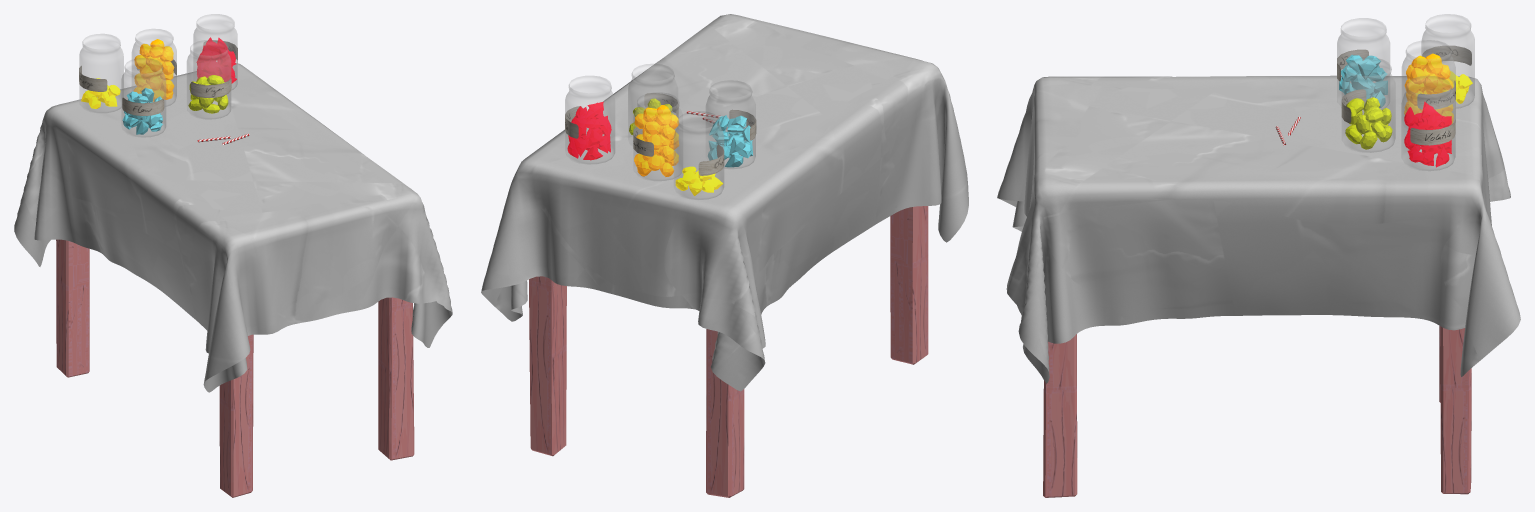
Rendered from table.fbx.
3 renders of one model, left to right at view 1: azimuth 30°, elevation 25°; view 2: azimuth 150°, elevation 25°; view 3: azimuth 270°, elevation 25°, orthographic. The views are drawn at different scales.
Parts seen in each view (by area): view 1: Plane.001, Plane, ChargeJar|Circle.008|Dupli|, FlowJar|Circle|Dupli|, VigorJar|Circle.004|Dupli|, GuardJar|Circle.002|Dupli|, VolatileJar|Circle.006|Dupli|, FlowJar|Circle.001|Dupli|20, VigorJar|Circle.005|Dupli|17; view 2: Plane.001, Plane, VolatileJar|Circle.006|Dupli|, ChargeJar|Circle.008|Dupli|, GuardJar|Circle.002|Dupli|, FlowJar|Circle|Dupli|, VigorJar|Circle.004|Dupli|; view 3: Plane.001, Plane, VigorJar|Circle.004|Dupli|, VolatileJar|Circle.006|Dupli|, ChargeJar|Circle.008|Dupli|, FlowJar|Circle|Dupli|, GuardJar|Circle.002|Dupli|, VolatileJar|Circle.007|Dupli|20, ChargeJar|Circle.009|Dupli|11, GuardJar|Circle.003|Dupli|20.
Boxes of the visible parts, x1,y1,x2,y2 form: Plane.001: (14, 63, 452, 392); Plane: (56, 239, 414, 497); ChargeJar|Circle.008|Dupli|: (79, 34, 123, 112); FlowJar|Circle|Dupli|: (121, 58, 165, 137); VigorJar|Circle.004|Dupli|: (187, 40, 230, 119); GuardJar|Circle.002|Dupli|: (132, 29, 176, 106); VolatileJar|Circle.006|Dupli|: (193, 14, 237, 90); FlowJar|Circle.001|Dupli|20: (122, 97, 164, 116); VigorJar|Circle.005|Dupli|17: (190, 78, 231, 97); Plane.001: (481, 14, 968, 391); Plane: (529, 206, 928, 497); VolatileJar|Circle.006|Dupli|: (565, 76, 614, 164); ChargeJar|Circle.008|Dupli|: (674, 111, 723, 199); GuardJar|Circle.002|Dupli|: (633, 92, 682, 180); FlowJar|Circle|Dupli|: (706, 80, 755, 168); VigorJar|Circle.004|Dupli|: (628, 64, 677, 147); Plane.001: (997, 75, 1520, 383); Plane: (1043, 325, 1471, 497); VigorJar|Circle.004|Dupli|: (1342, 57, 1395, 152); VolatileJar|Circle.006|Dupli|: (1401, 76, 1455, 170); ChargeJar|Circle.008|Dupli|: (1421, 14, 1474, 108); FlowJar|Circle|Dupli|: (1337, 18, 1389, 112); GuardJar|Circle.002|Dupli|: (1402, 40, 1455, 129); VolatileJar|Circle.007|Dupli|20: (1410, 119, 1455, 145); ChargeJar|Circle.009|Dupli|11: (1422, 45, 1471, 65); GuardJar|Circle.003|Dupli|20: (1417, 81, 1455, 109).
Size of the model in its own units: 262 by 329 by 399.
